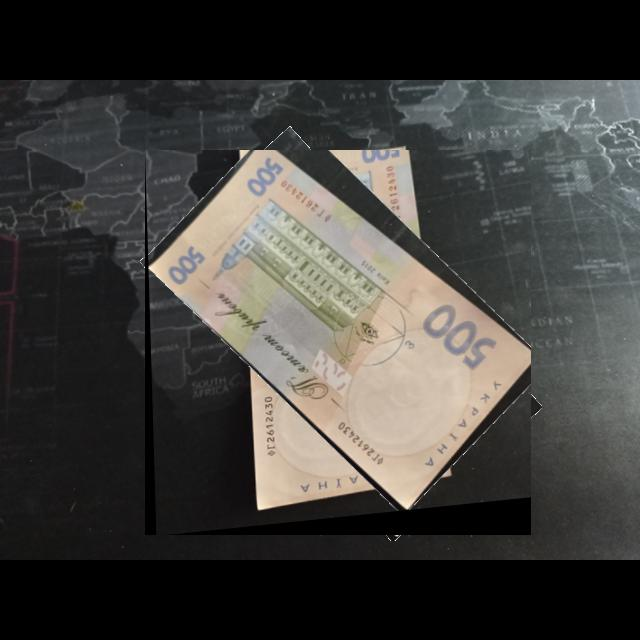500uah: (149, 150, 532, 516)
